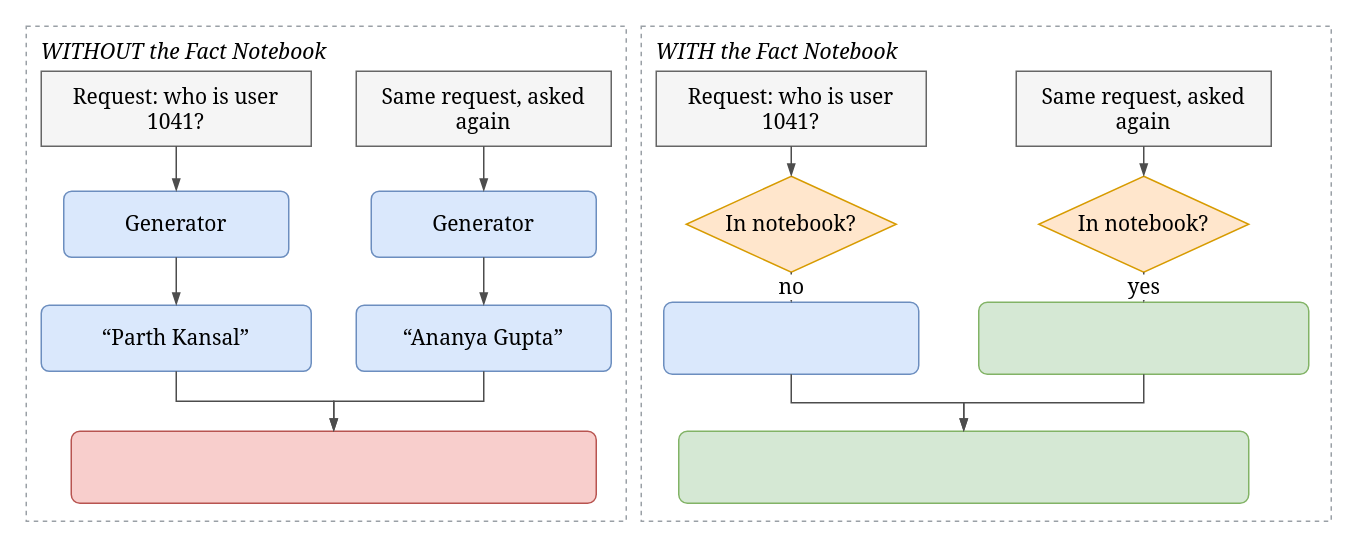
The diagram is 1358 pixels wide and 548 high, and some of its shapes have lost their labels. The centre of each missing label's shape, as x and y in pixels:
"CONTRADICTION decoy detected — 100% rate" belongs at point 333,466.
"Generator, then write-once put" belongs at point 790,337.
"NO CONTRADICTION 0% rate over 286 probes" belongs at point 963,466.
"“Parth Kansal” same value, by construction" belongs at point 1143,337.
